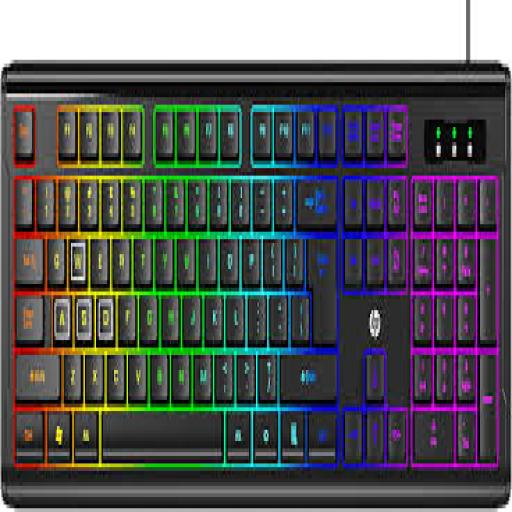KEYBOARD-2: (0, 64, 511, 501)
